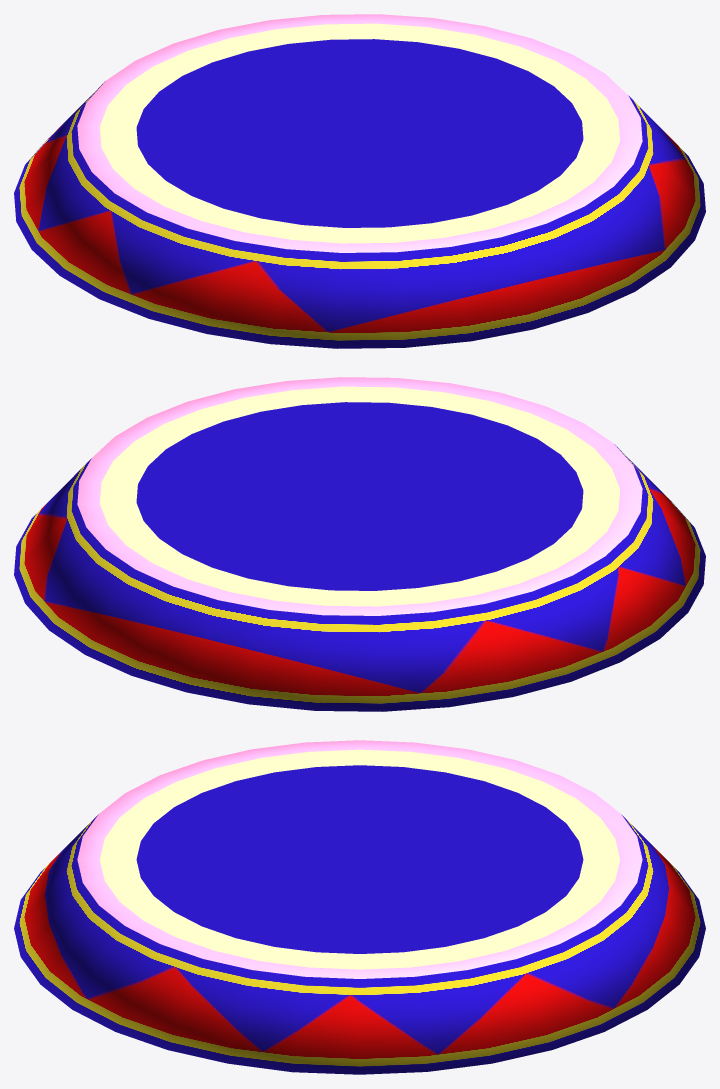
Rendered from Plateforme.fbx.
3 renders of one model, top to bottom at view 1: azimuth 30°, elevation 25°; view 2: azimuth 150°, elevation 25°; view 3: azimuth 270°, elevation 25°, orthographic.
Visible parts, largest first — view 1: Plateforme; view 2: Plateforme; view 3: Plateforme.
Part boxes in pixels (x1=…): Plateforme: x1=14, y1=14, x2=705, y2=348; Plateforme: x1=14, y1=377, x2=705, y2=711; Plateforme: x1=14, y1=740, x2=705, y2=1074.
Bounding box in the file's own units: 735 × 80.99 × 735.
